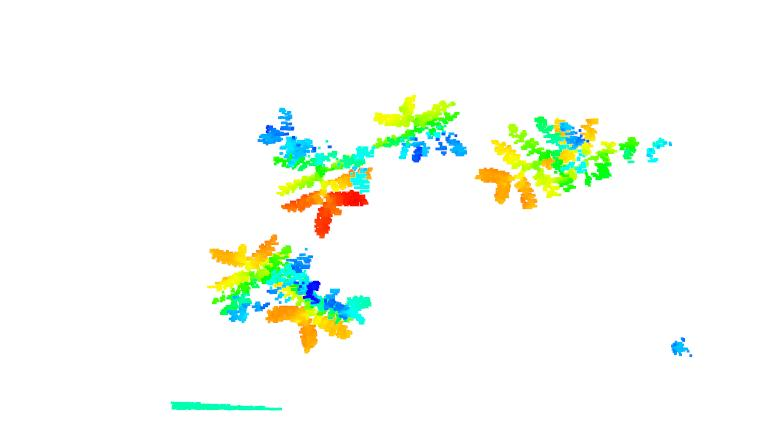chickpea: (472, 113, 667, 211), (257, 105, 372, 238), (206, 236, 304, 324), (264, 282, 375, 356), (368, 93, 469, 162)
